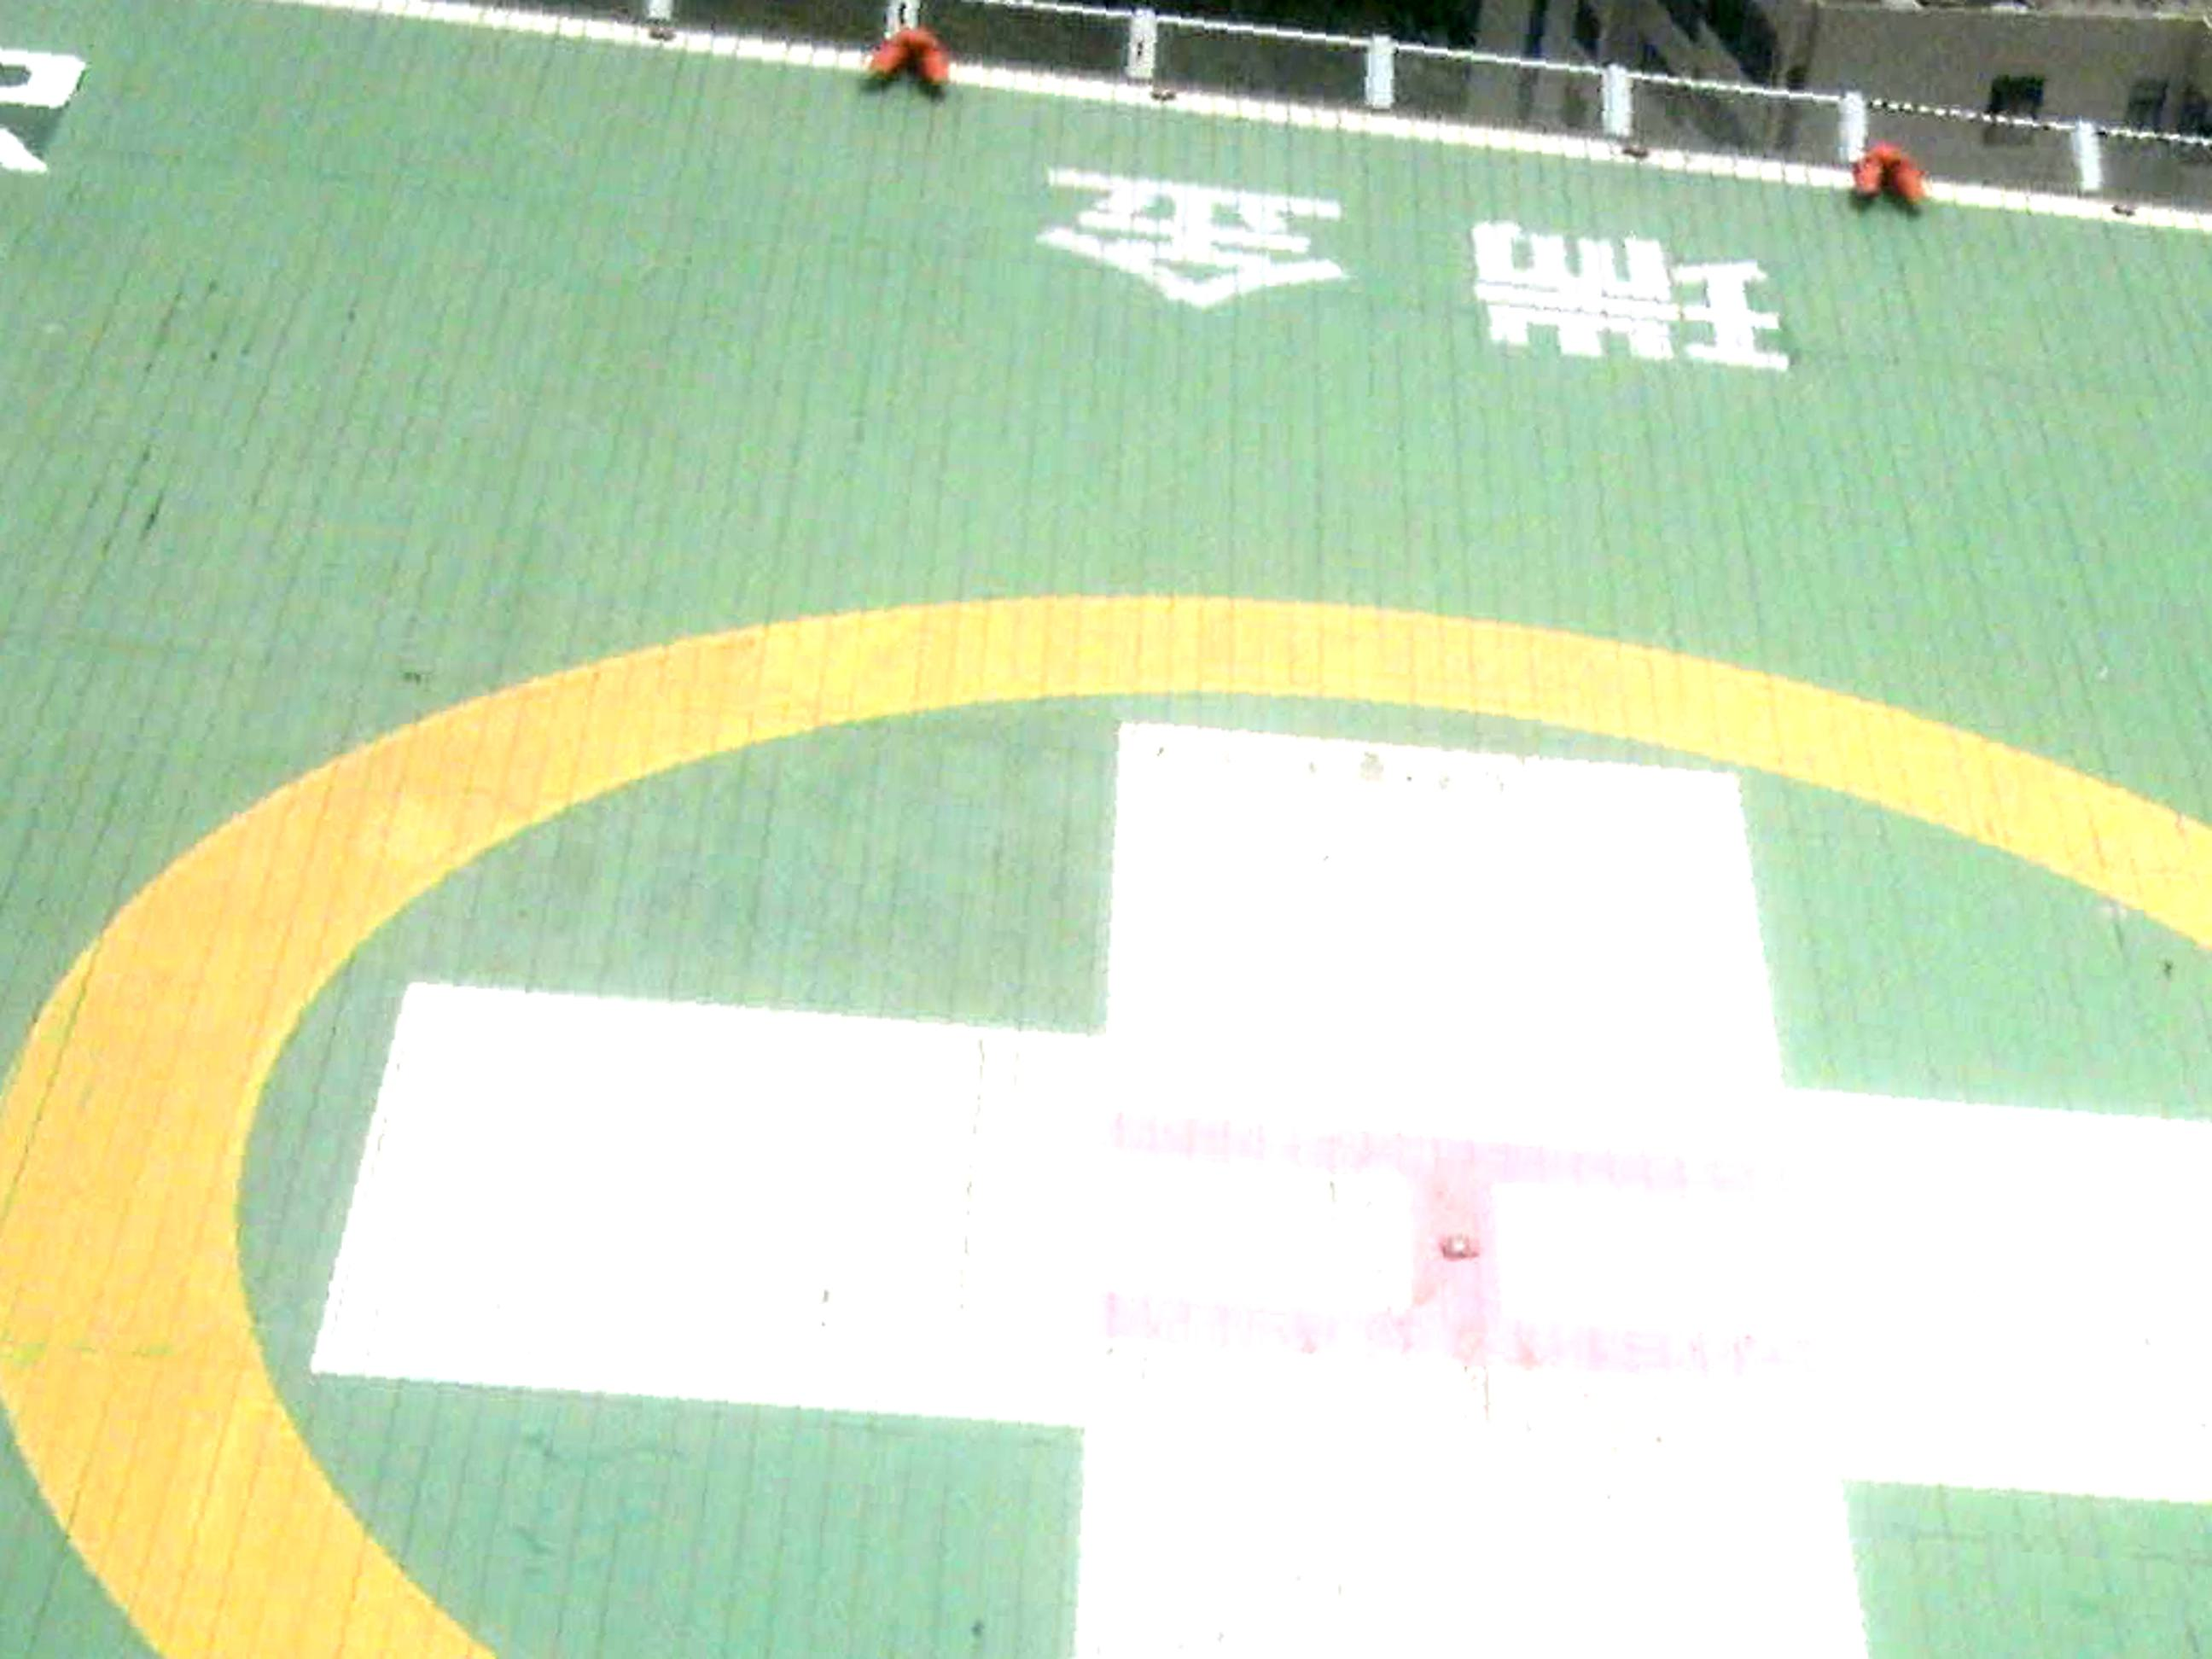Apron: (0, 573, 2212, 1659)
